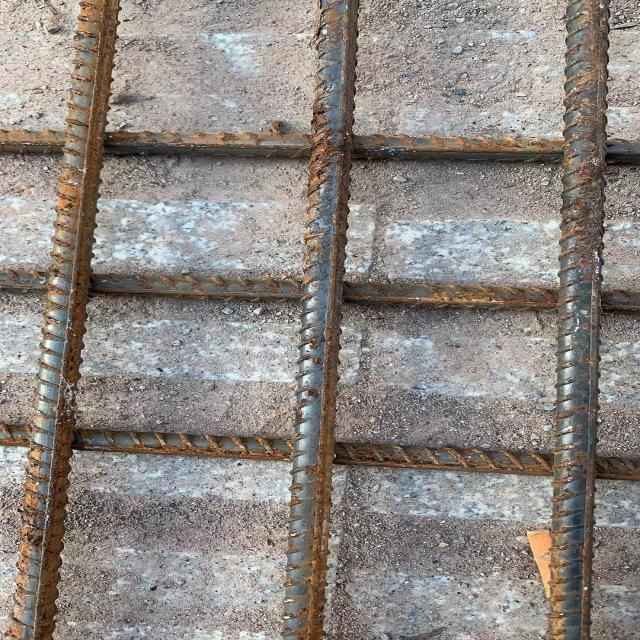ribbed bar: (6, 0, 125, 639), (279, 0, 363, 639), (544, 0, 612, 639), (1, 421, 640, 483), (1, 265, 640, 317), (1, 128, 640, 168)
